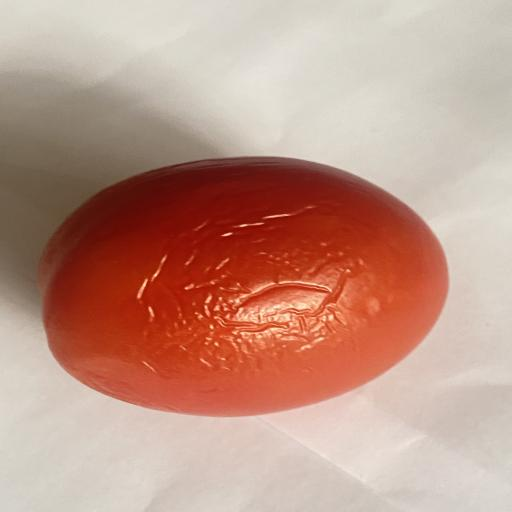spoiled: (40, 157, 447, 416)
